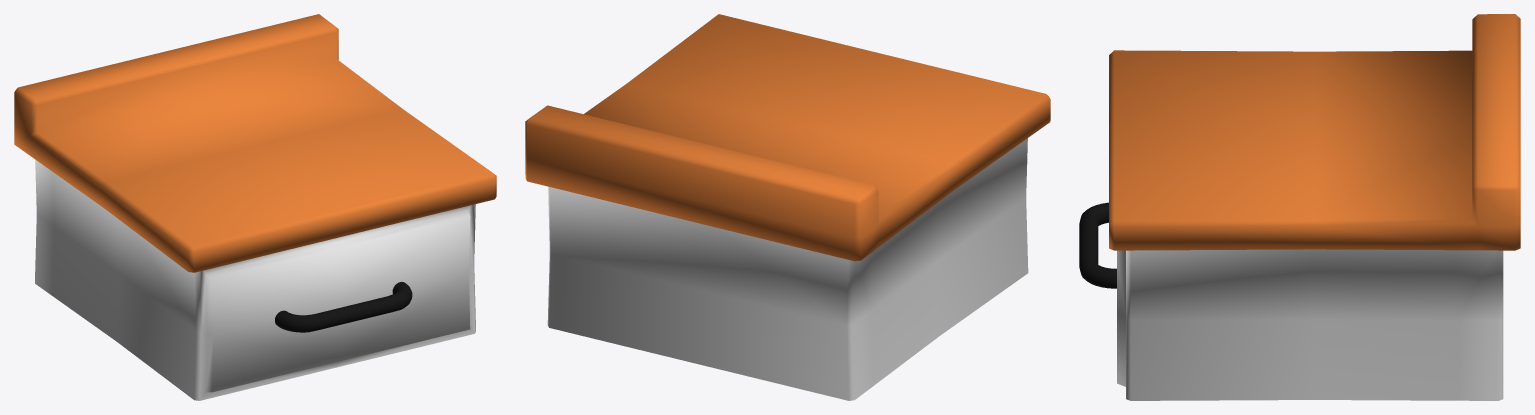
The model's file is Counter.fbx.
3 renders of one model, left to right at view 1: azimuth 30°, elevation 25°; view 2: azimuth 150°, elevation 25°; view 3: azimuth 270°, elevation 25°, orthographic. The views are drawn at different scales.
Parts seen in each view (by area): view 1: Cylinder; view 2: Cylinder; view 3: Cylinder.
Boxes of the visible parts, box(x1,y1,x2,y2) form: Cylinder: box(14, 14, 496, 400); Cylinder: box(525, 14, 1050, 400); Cylinder: box(1079, 14, 1520, 400).
Size of the model in its own units: 200 by 120 by 214.
